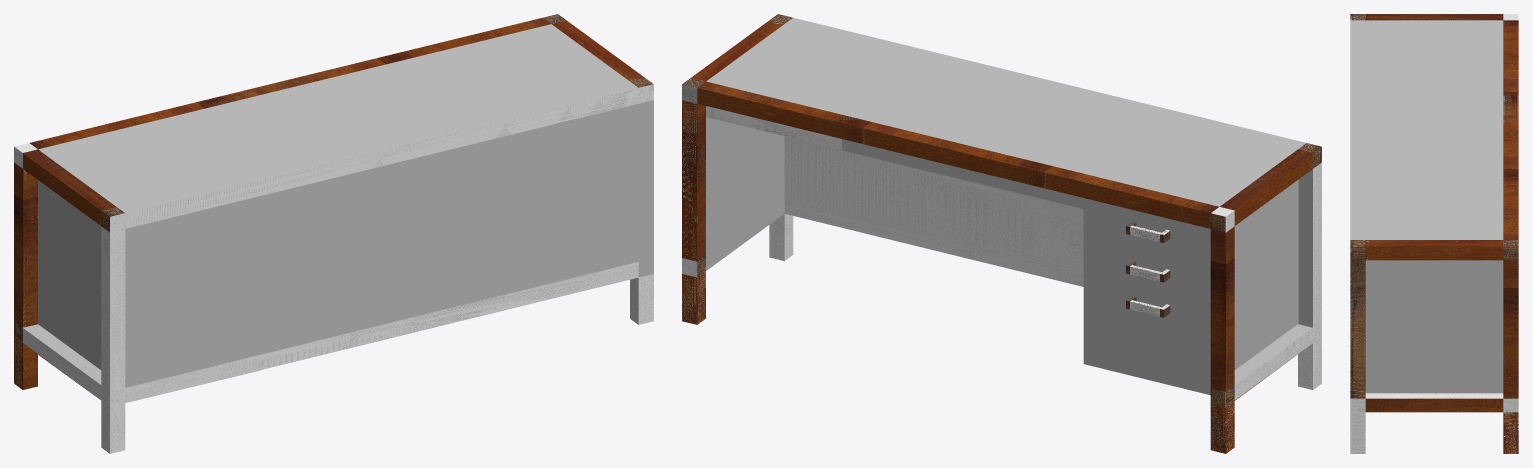
3 renders of one model, left to right at view 1: azimuth 30°, elevation 25°; view 2: azimuth 150°, elevation 25°; view 3: azimuth 270°, elevation 25°, orthographic. The views are drawn at different scales.
Visible parts, largest first — view 1: mesh1_mesh1-geometry; view 2: mesh1_mesh1-geometry; view 3: mesh1_mesh1-geometry.
Part boxes in pixels (<box>): mesh1_mesh1-geometry: <box>14,14,653,453</box>; mesh1_mesh1-geometry: <box>682,14,1321,453</box>; mesh1_mesh1-geometry: <box>1350,14,1518,453</box>.
Bounding box in the file's own units: 0.8884 × 0.3702 × 0.2715.
